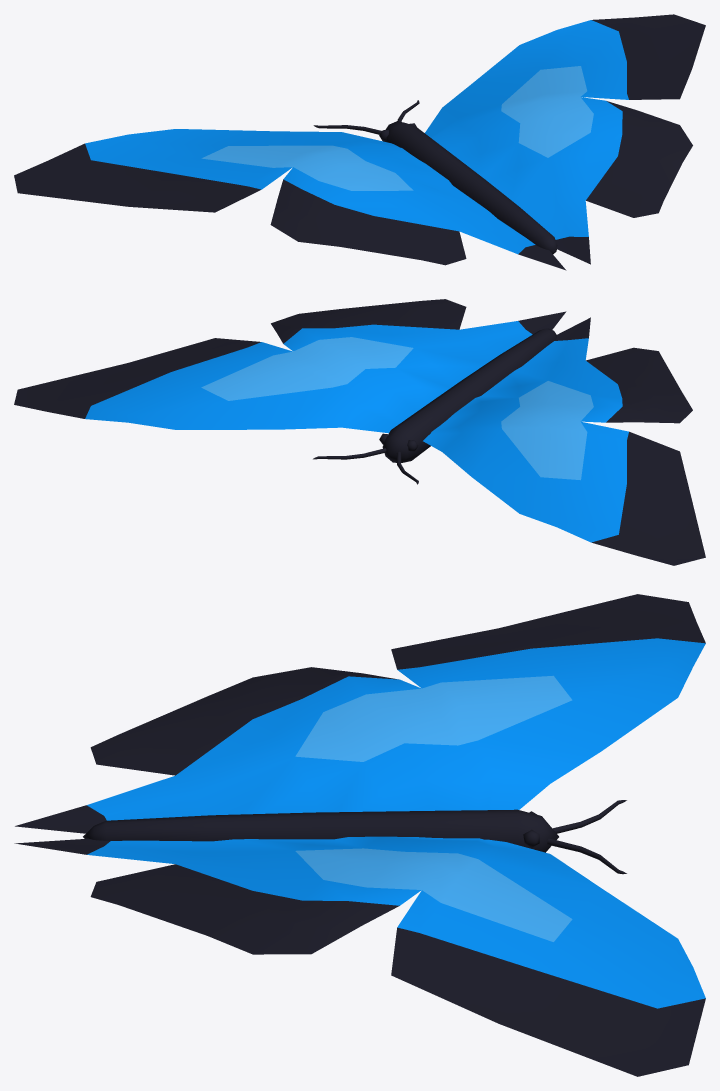
File: monarque.glb
3 views of the same model, one above another, from view 1: azimuth 30°, elevation 25°; view 2: azimuth 150°, elevation 25°; view 3: azimuth 270°, elevation 25° (orthographic). The views are drawn at different scales.
Visible parts, largest first — view 1: Butterfly.1; view 2: Butterfly.1; view 3: Butterfly.1.
Part boxes in pixels (bbox=[...]): Butterfly.1: bbox=[14, 14, 705, 270]; Butterfly.1: bbox=[14, 299, 705, 565]; Butterfly.1: bbox=[14, 594, 705, 1076].
Size of the model in its own units: 210 by 14.68 by 127.
